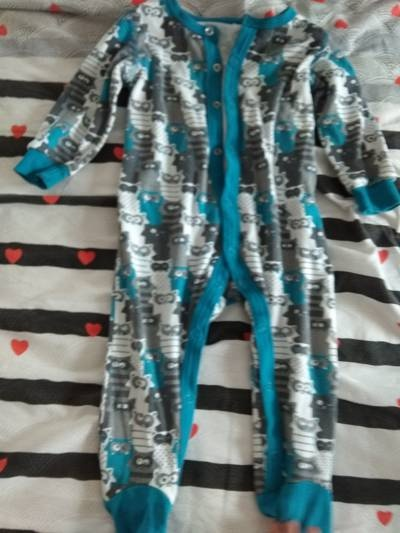Body: (19, 6, 398, 525)
